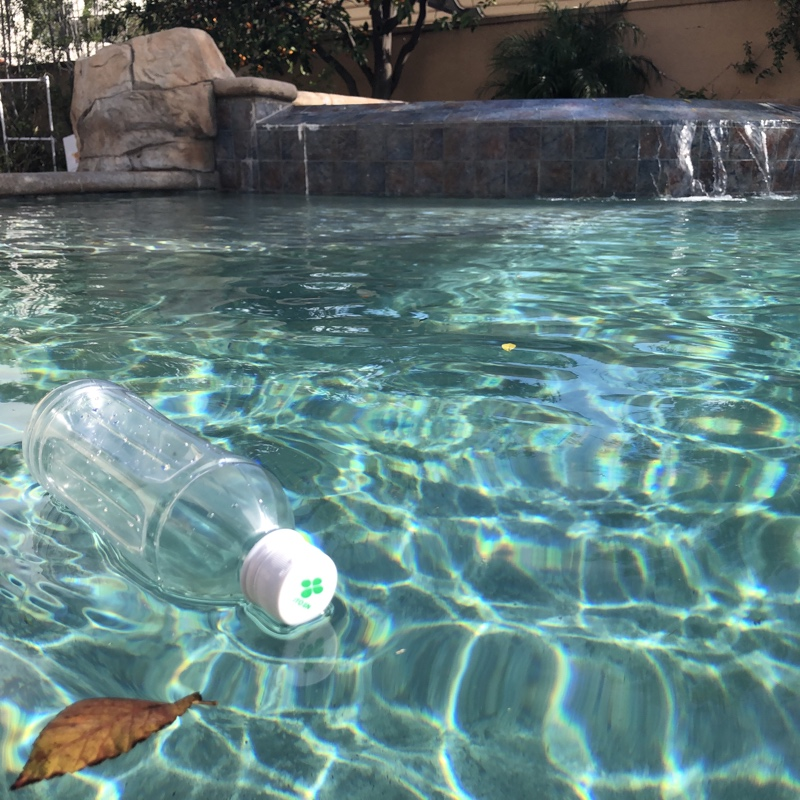Plastic Bottle: (14, 375, 340, 633)
